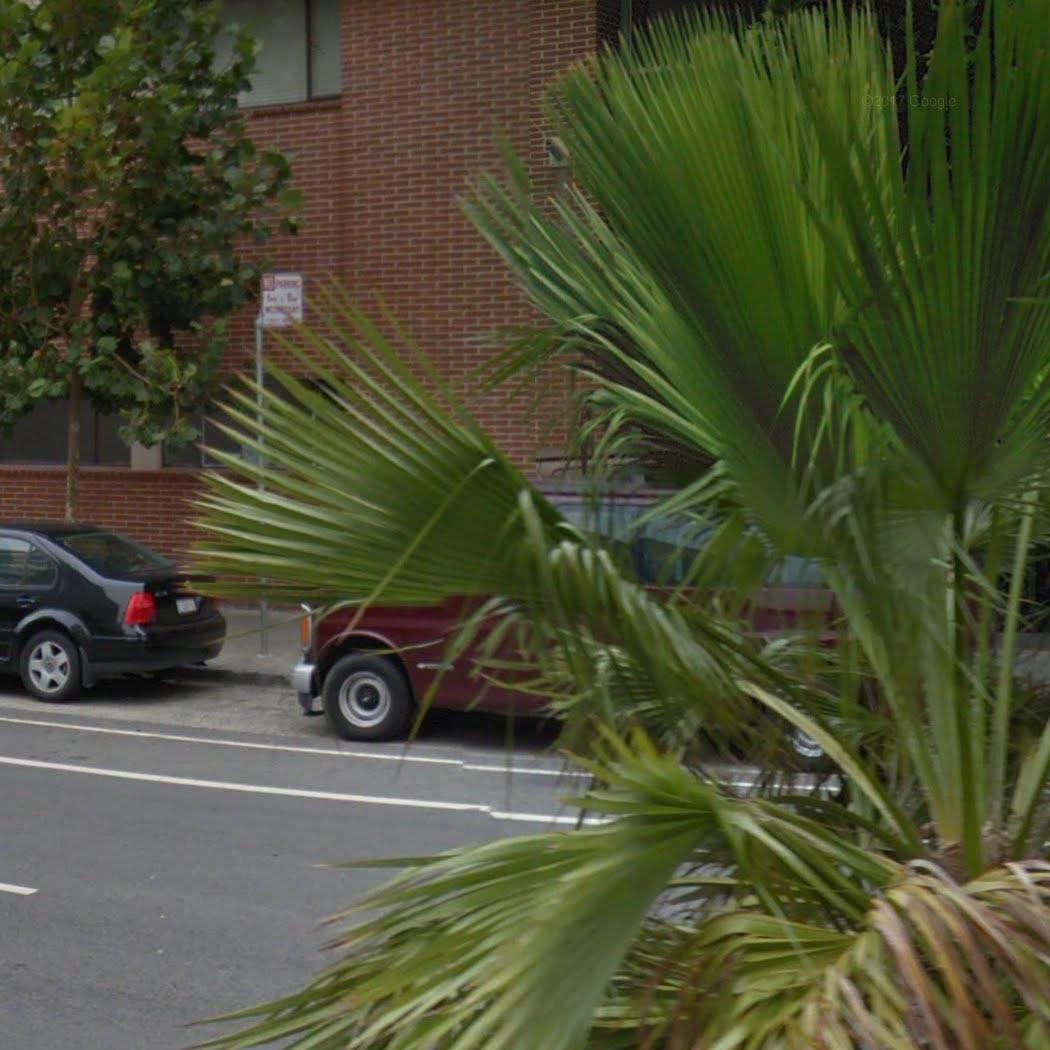No Parking: (260, 272, 305, 330)
